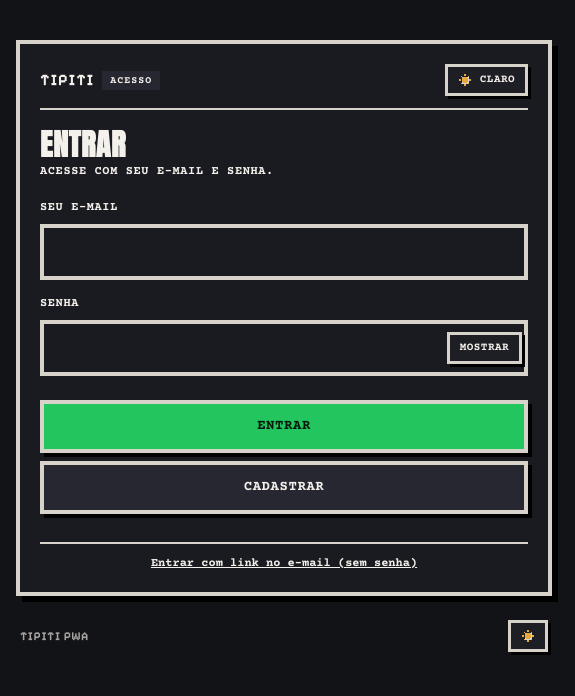
LoginPage › translates email not confirmed error on login
Type "ana@example.com" into the field labelled "Seu e-mail".
click(284, 252); type("ana@example.com")  # box [40,224,528,280]
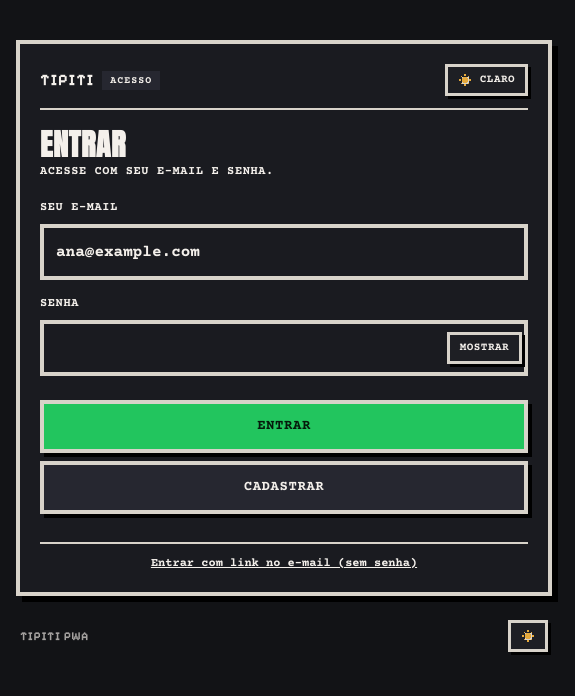
Type "senha123" into the password field labelled "Senha".
click(284, 348); type("senha123")  # box [40,320,528,376]
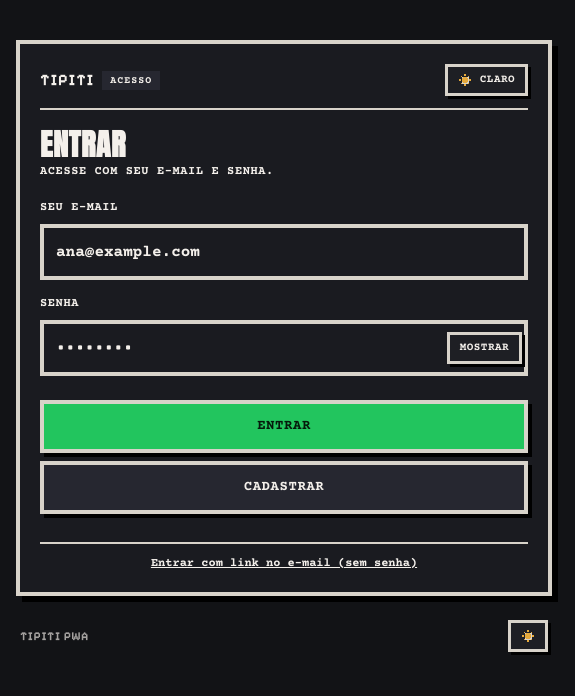
Click the button "Entrar".
click(284, 426)  # box [40,400,528,453]
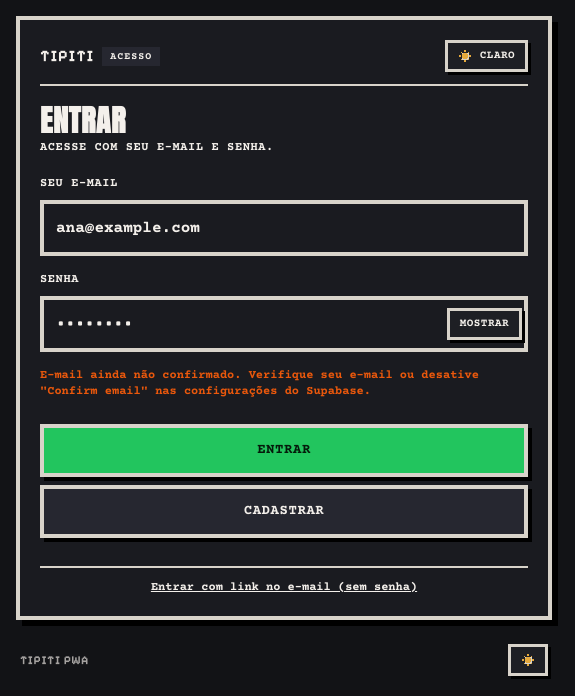
Expected: the text "E-mail ainda não confirmado" is shown, [40,369,479,398]
